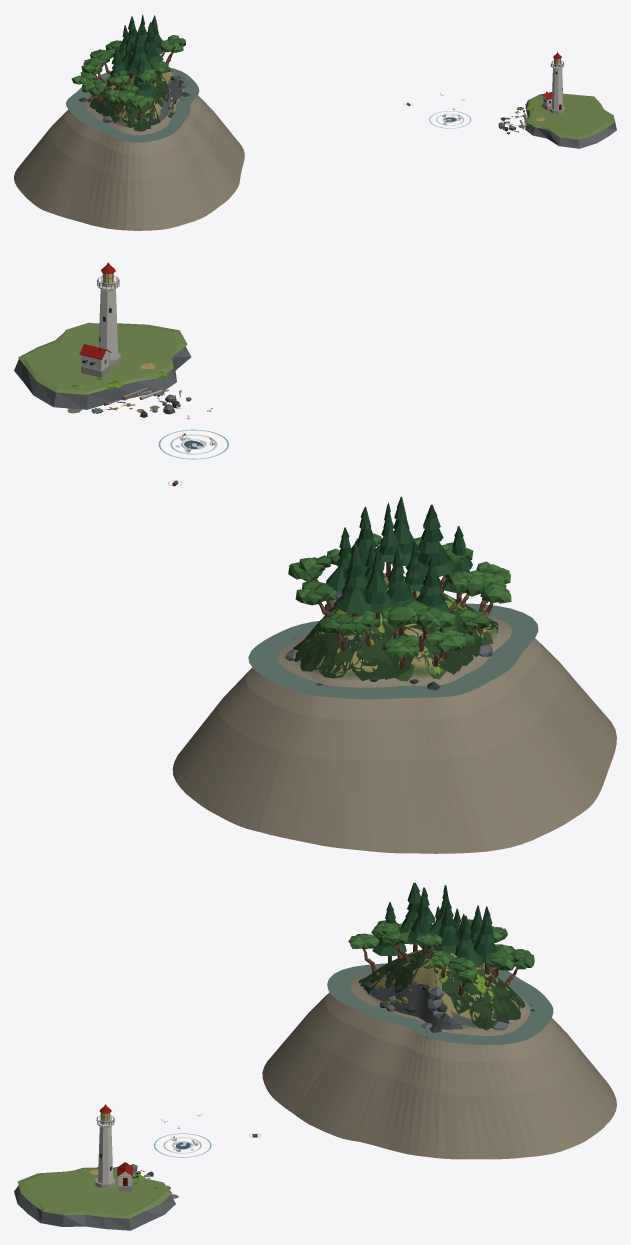
File: chunk_-1_-1.glb
3 renders of one model, top to bottom at view 1: azimuth 30°, elevation 25°; view 2: azimuth 150°, elevation 25°; view 3: azimuth 270°, elevation 25°, orthographic. The views are drawn at different scales.
Parts seen in each view (by area): view 1: chunk_-1_-1; view 2: chunk_-1_-1; view 3: chunk_-1_-1.
Part boxes in pixels (x1,y1,x2,y2): chunk_-1_-1: (14,14,616,230); chunk_-1_-1: (14,262,616,853); chunk_-1_-1: (14,882,616,1230).
Bounding box in the file's own units: 177 × 60.79 × 150.
